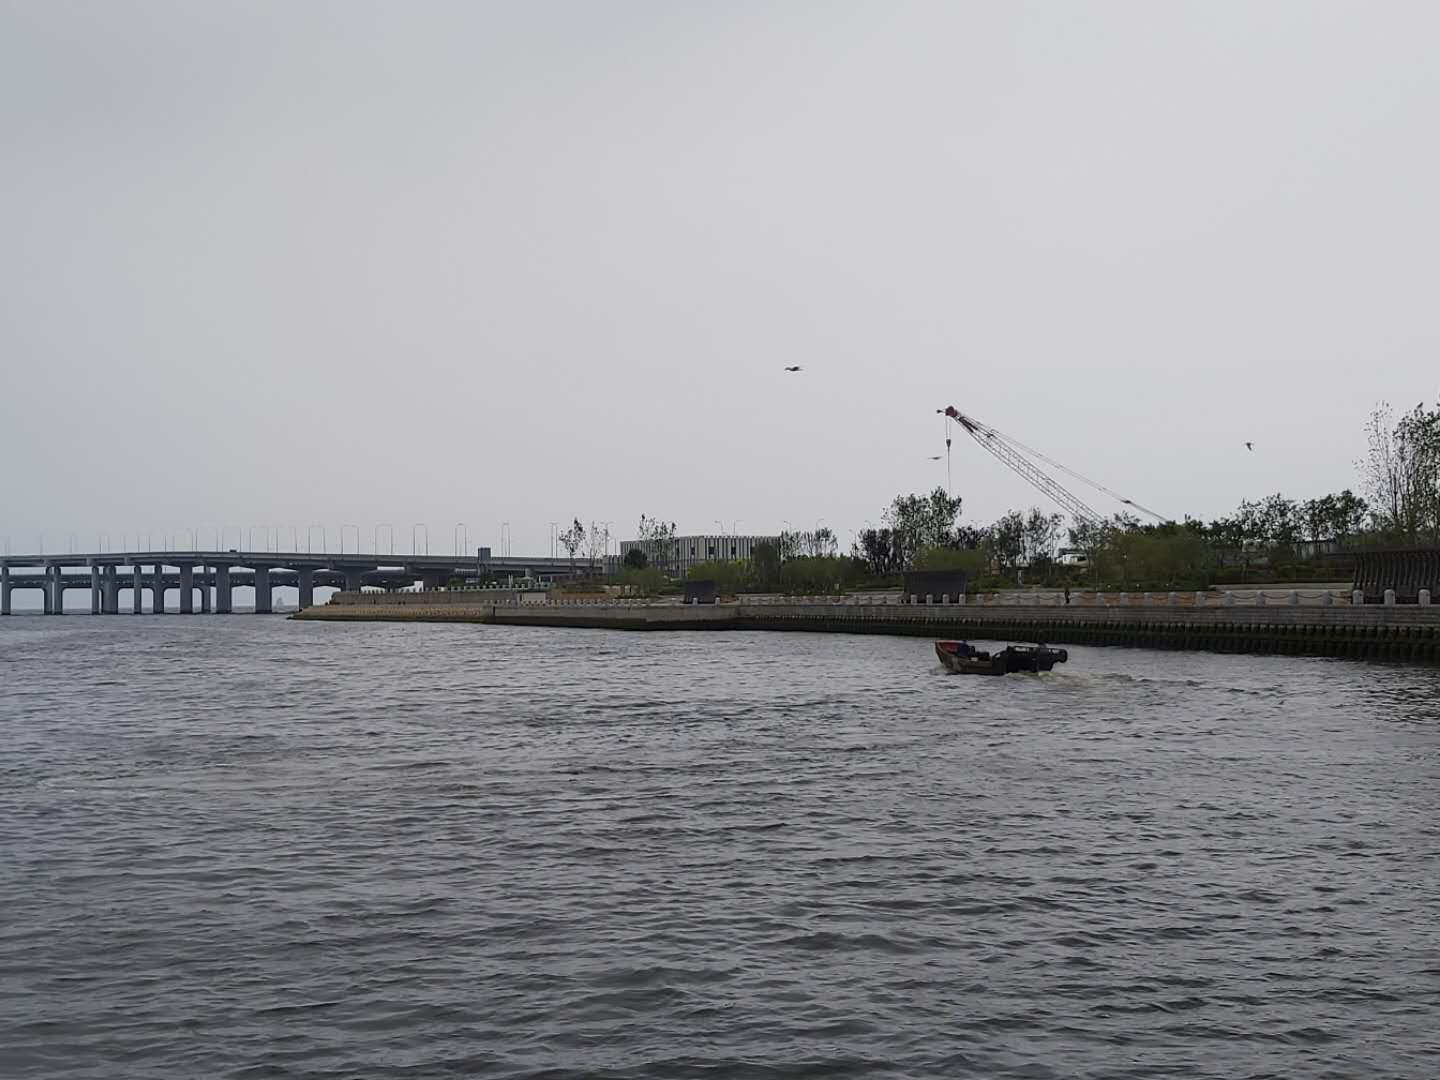boat: (927, 633, 1078, 683)
bridge: (1, 543, 333, 616)
